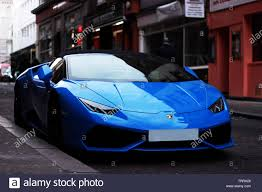Lamborghini: (14, 57, 233, 152)
